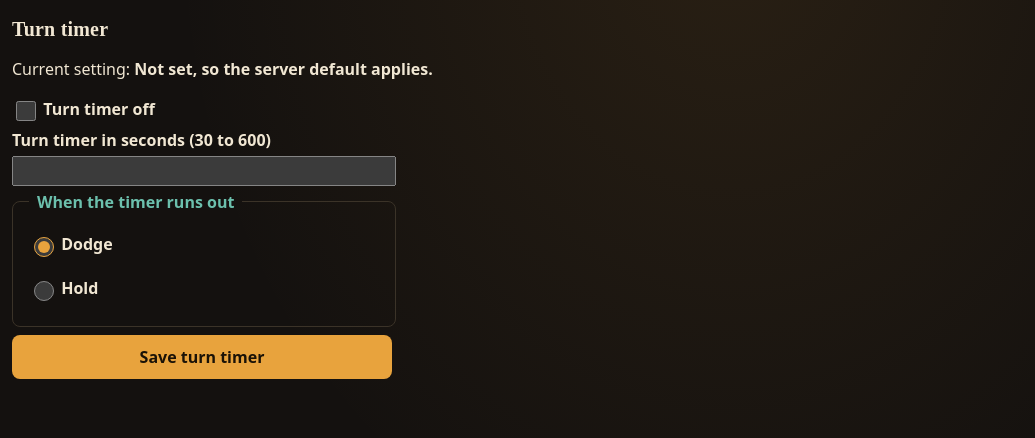
Test: TurnTimerControl › reports when the change could not be sent because the socket is down
Type "60" into the number field labelled "Turn timer in seconds (30 to 600)".
click(204, 171); type("60")  # box [12,156,396,186]
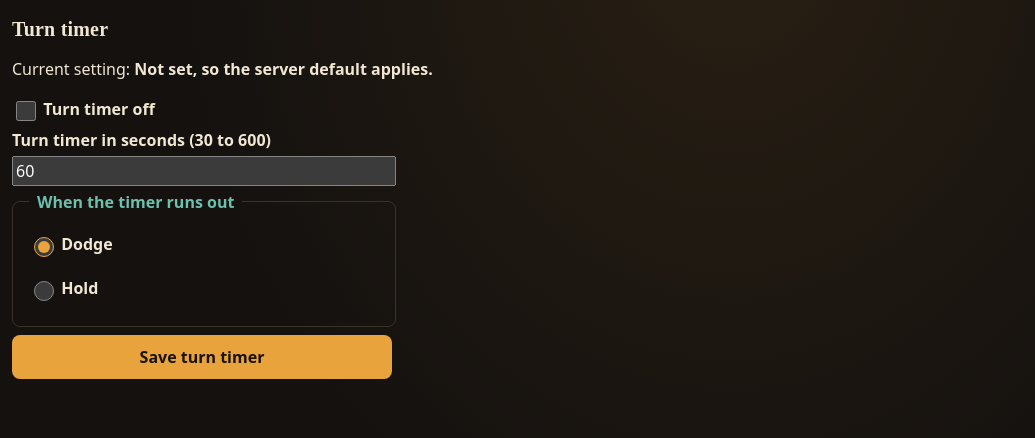
Click the button "Save turn timer".
click(202, 357)  # box [12,335,392,379]
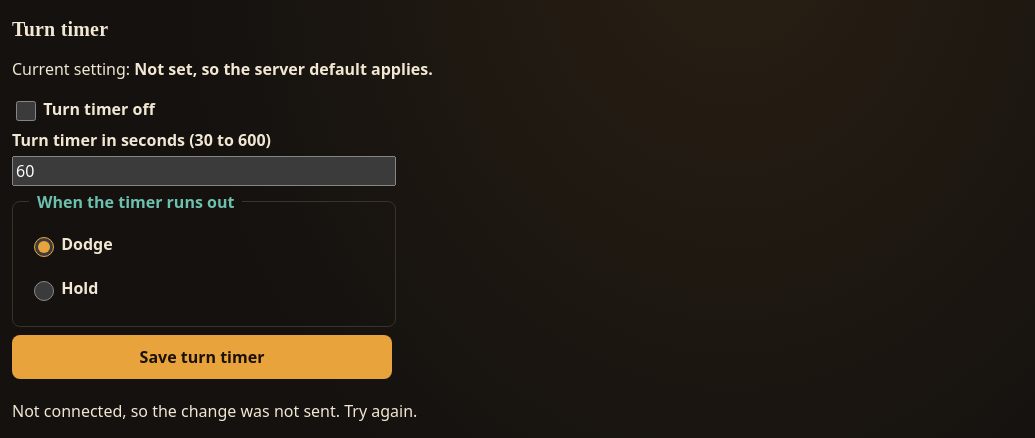
Expected: the message shows "Not connected", [12,400,417,422]
